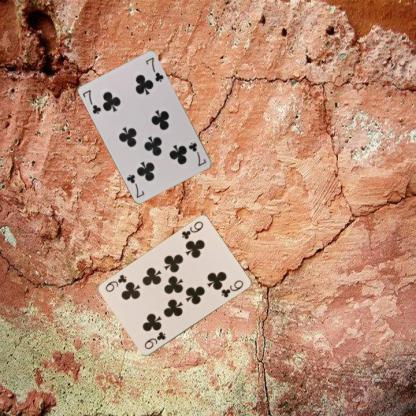7c: (80, 87, 103, 116), (186, 140, 208, 168)
9c: (178, 219, 204, 241), (142, 329, 167, 351)
